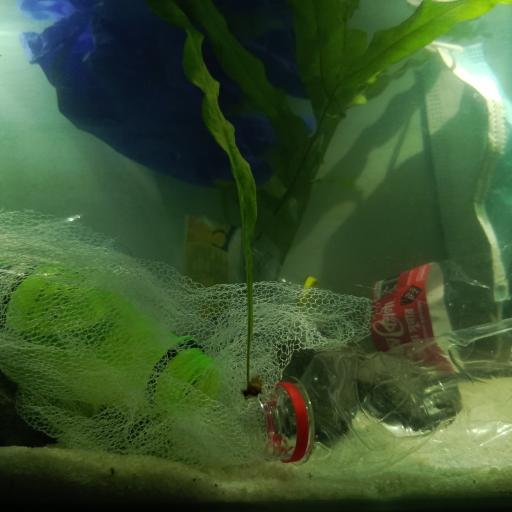glove: (23, 2, 320, 184)
mask: (418, 38, 512, 302)
net: (0, 207, 373, 466)
plastic_bottle: (243, 316, 512, 467), (2, 258, 218, 408), (84, 205, 322, 310), (338, 244, 512, 370)
